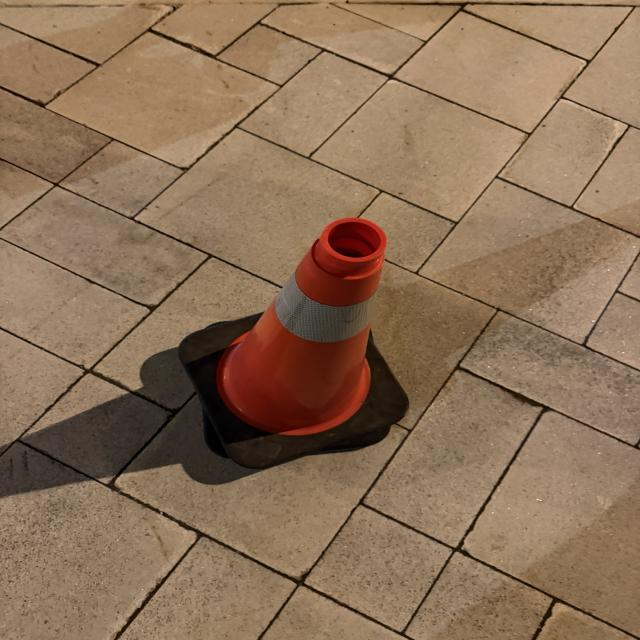Traffic Cone: (174, 217, 411, 468)
